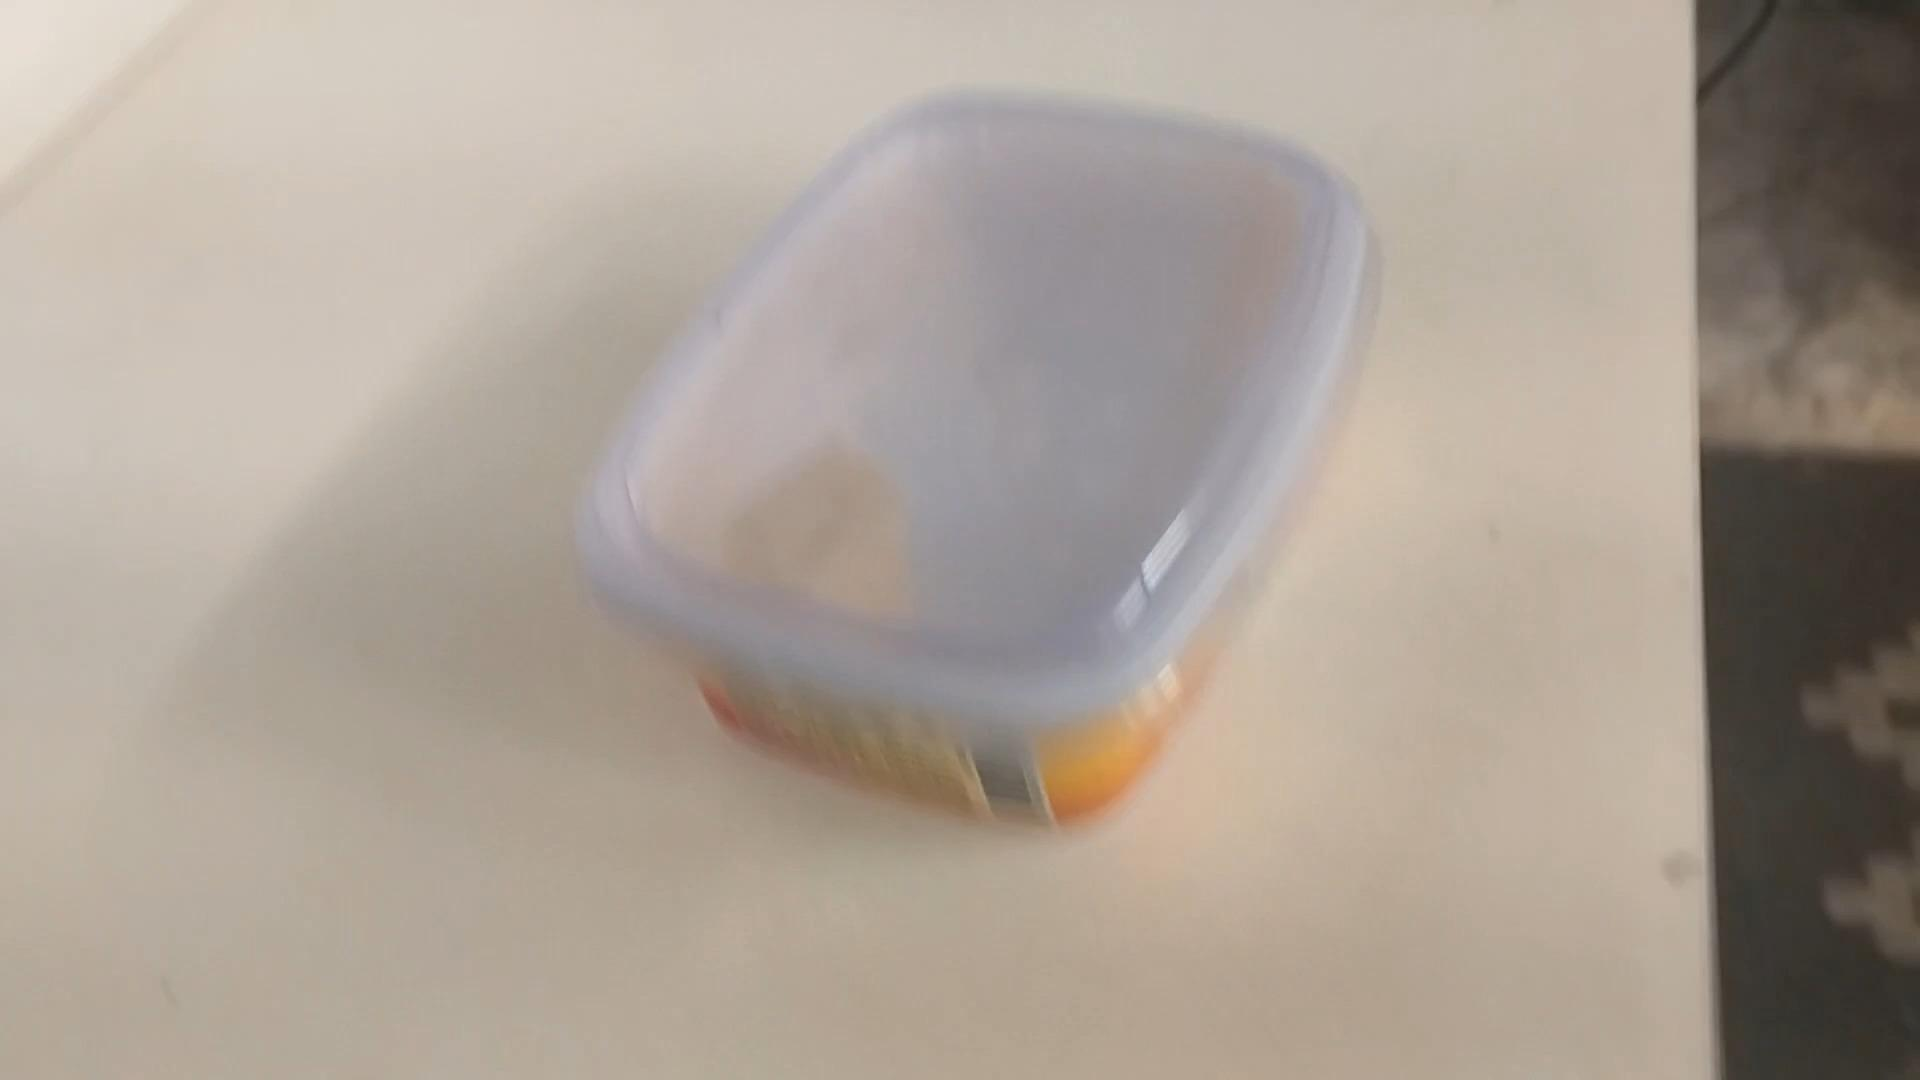butter: (571, 90, 1373, 832)
